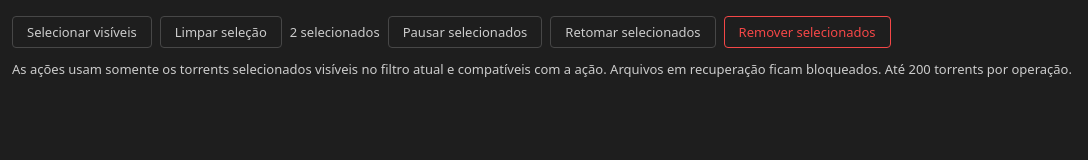
lote atua somente nos selecionados visíveis e usa snapshot confirmado da fila
The width and height of the screenshot is (1088, 160).
What coordinates should you click on to do the following:
click the button "Pausar selecionados"
I would click on:
 (465, 32)
Its box is [388,16,542,48].
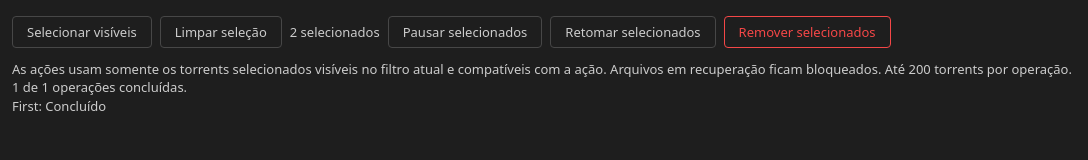
Expected: the text "1 de 1 operações concluídas." is shown, [12,78,187,96]
